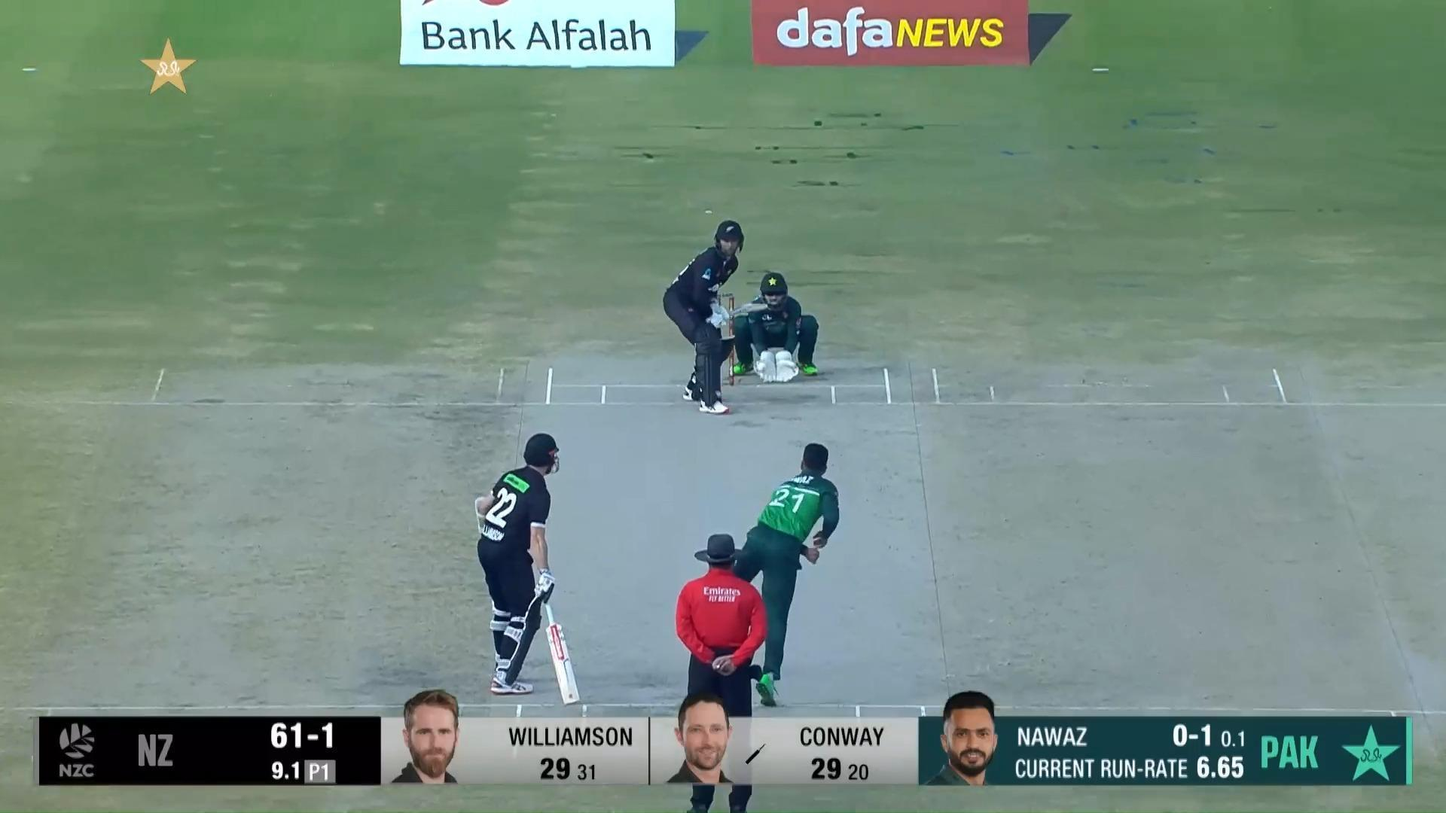BM 1: (662, 219, 769, 414)
BO: (717, 441, 842, 709)
